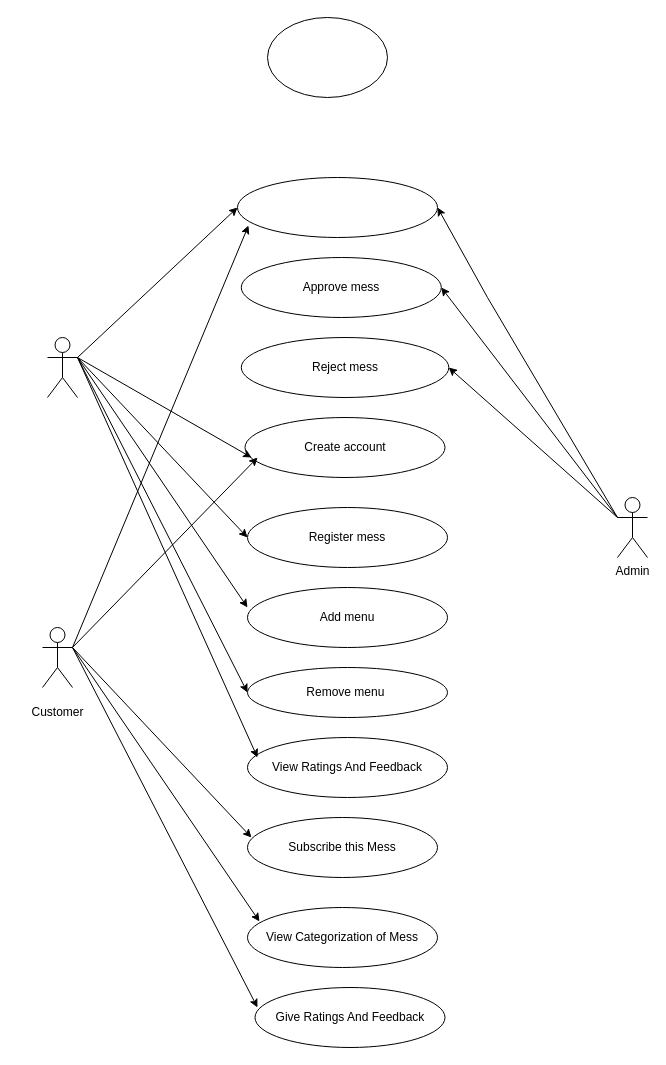
The diagram is 666 pixels wide and 1065 high, and some of its shapes have lost their labels. The centre of each missing label's shape, as x and y in pixels:
Login: point (337, 207)
Mess Owner: point (62, 367)
